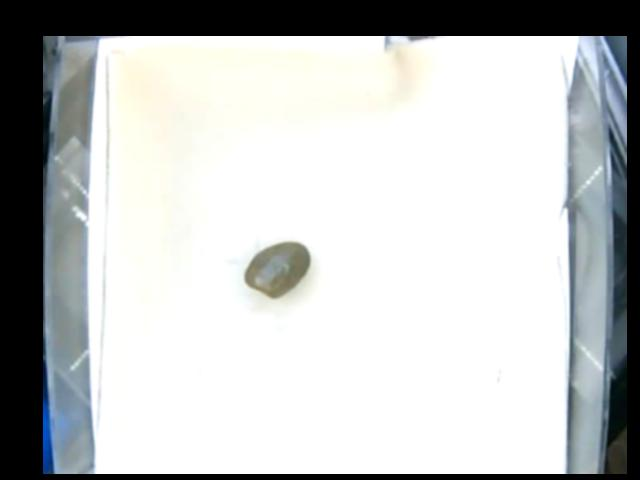Pebble: (243, 240, 312, 297)
